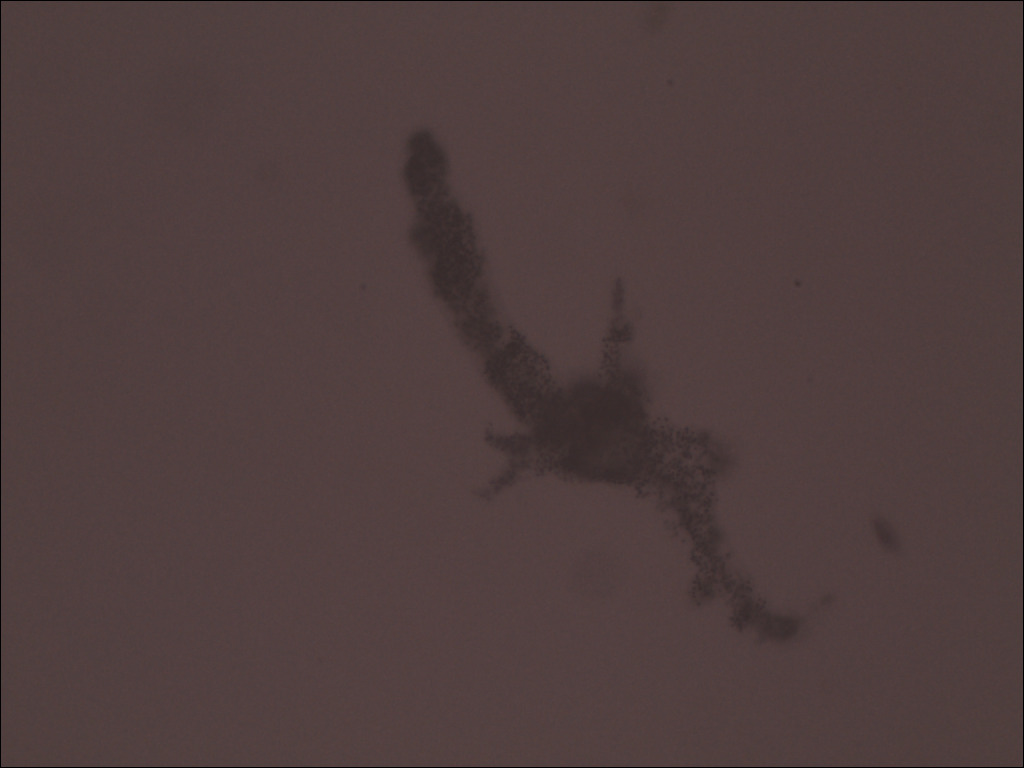amoeba: (390, 117, 843, 654)
